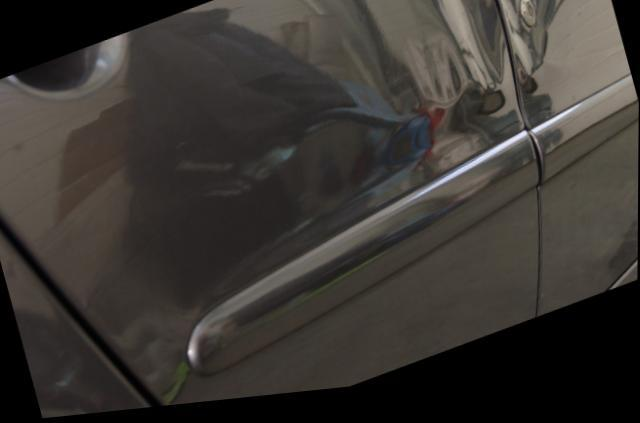dent: (396, 0, 519, 189), (499, 0, 555, 81)
